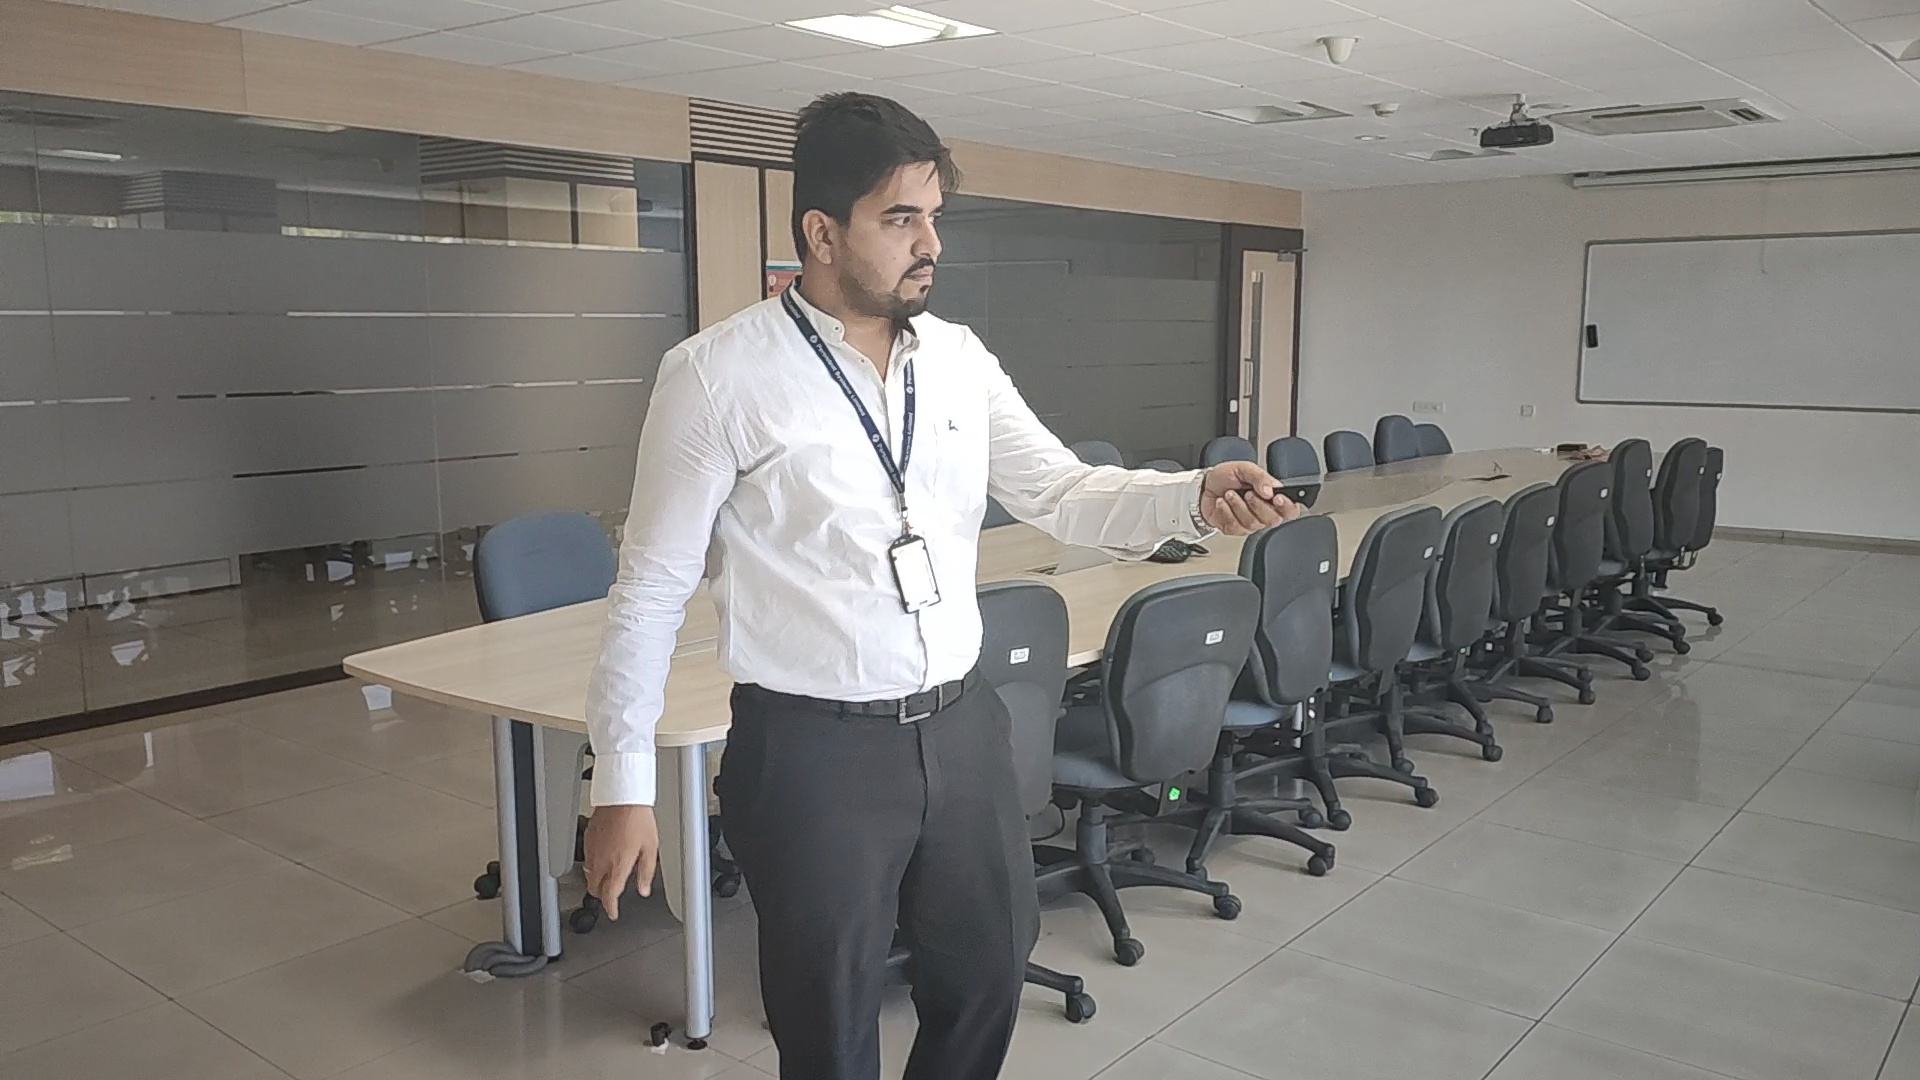knife: (1302, 475, 1457, 516)
